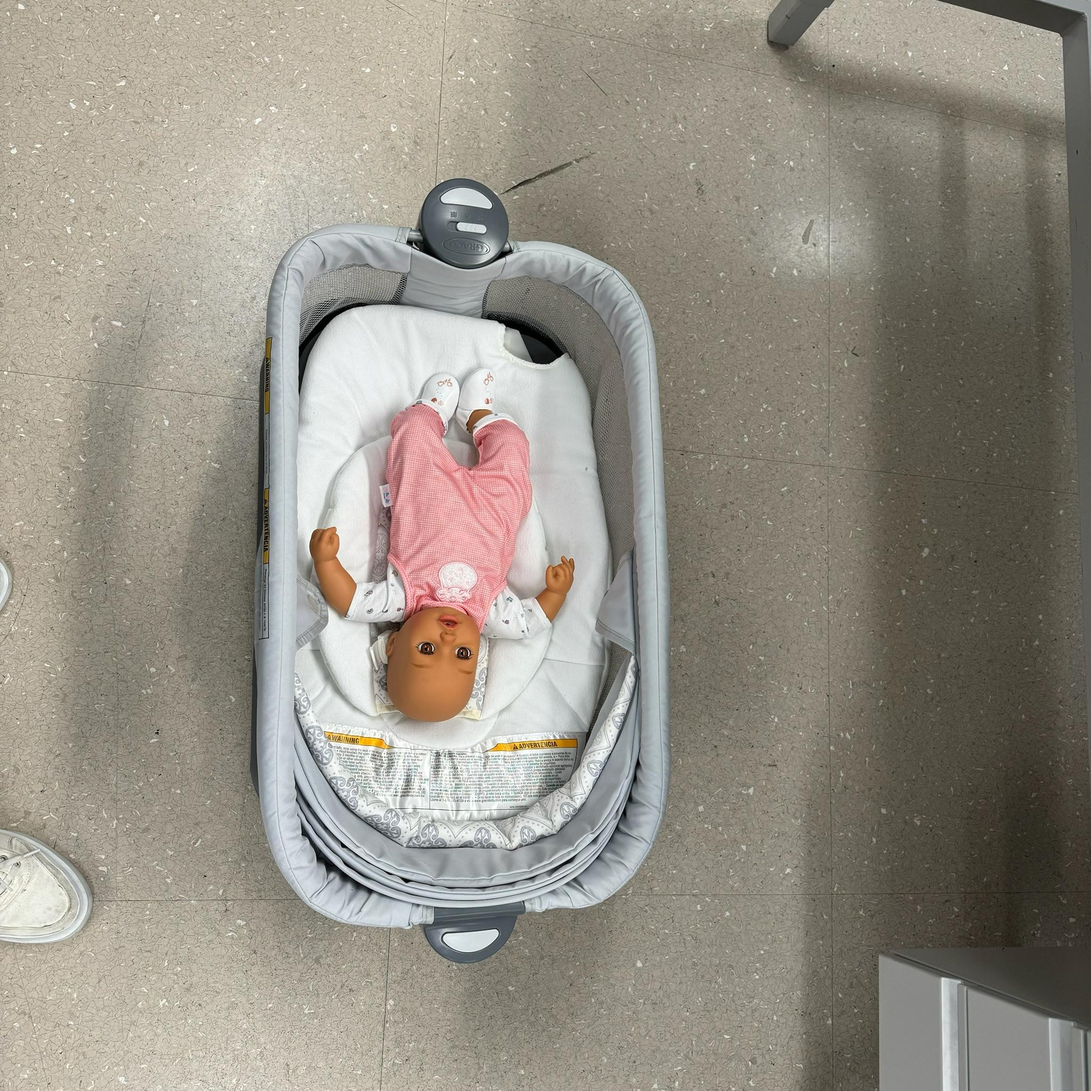baby: (313, 363, 579, 742)
